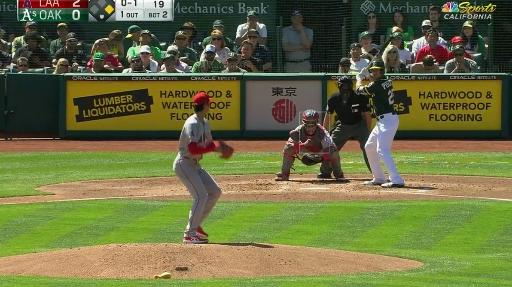pitcher: (173, 92, 234, 243)
